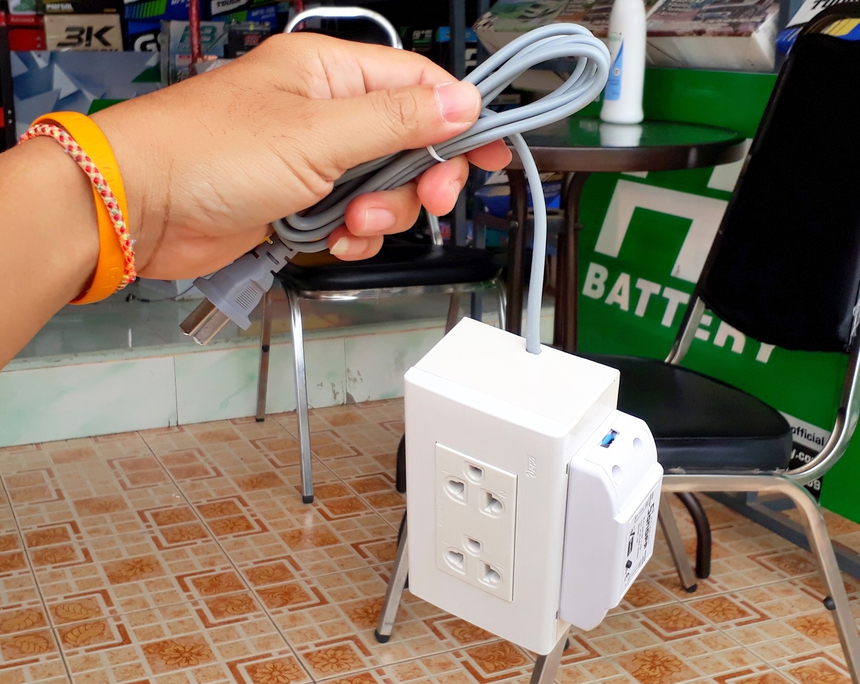Three_eye_plug: (396, 306, 676, 666)
